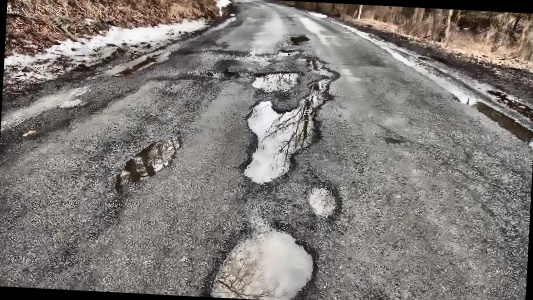pothole: (204, 220, 323, 300), (241, 98, 325, 187), (113, 128, 185, 197), (302, 53, 339, 105), (305, 181, 342, 222), (250, 67, 303, 94), (274, 46, 302, 58)
